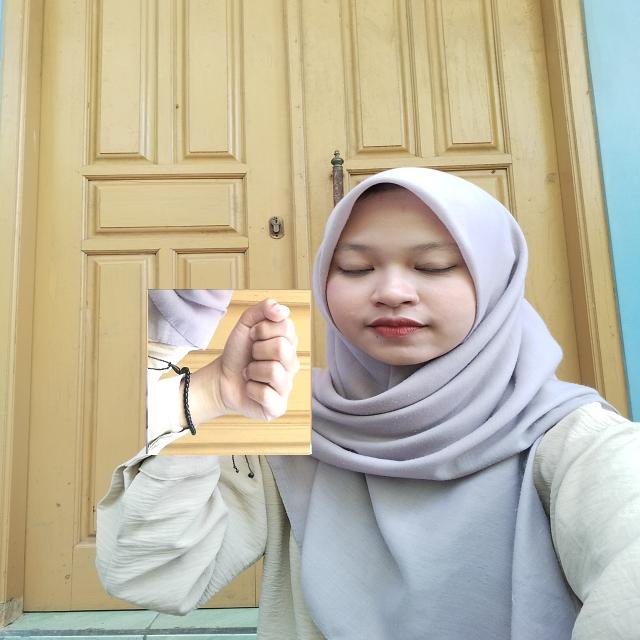baik: (147, 290, 311, 455)
